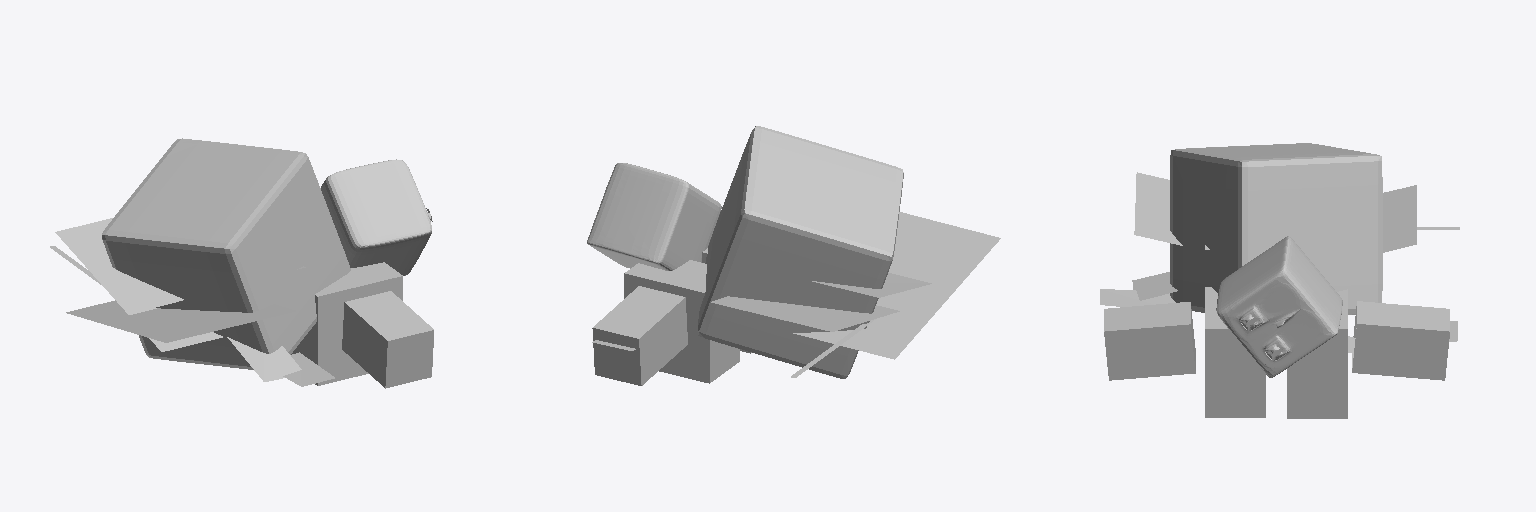
3 views of the same model, side by side, from view 1: azimuth 30°, elevation 25°; view 2: azimuth 150°, elevation 25°; view 3: azimuth 270°, elevation 25° (orthographic).
Parts seen in each view (by area): view 1: Cube_Cube.001, Cube.001_Cube.002, Cube.005_Cube.007, CollisionLL_Cube.003, RectT1_Plane, RectH2_Plane.007, RectT2_Plane.001, RectLA1_Plane.003, RectLA2_Plane.002; view 2: Cube_Cube.001, Cube.001_Cube.002, RectT1_Plane, Cube.004_Cube.005, Cube.003_Cube.004, RectT2_Plane.001, RectH2_Plane.007; view 3: Cube_Cube.001, Cube.001_Cube.002, Cube.004_Cube.005, Cube.005_Cube.007, CollisionLL_Cube.003, Cube.003_Cube.004, RectT1_Plane, RectT2_Plane.001, RectLA2_Plane.002, RectLA1_Plane.003.
Part boxes in pixels (x1,y1,x2,y2): Cube_Cube.001: (102, 138, 350, 369); Cube.001_Cube.002: (321, 159, 432, 275); Cube.005_Cube.007: (342, 291, 433, 388); CollisionLL_Cube.003: (291, 262, 402, 385); RectT1_Plane: (66, 300, 295, 342); RectH2_Plane.007: (79, 244, 183, 313); RectT2_Plane.001: (55, 218, 222, 351); RectLA1_Plane.003: (227, 337, 301, 381); RectLA2_Plane.002: (283, 352, 334, 386); Cube_Cube.001: (698, 126, 903, 378); Cube.001_Cube.002: (587, 163, 721, 270); RectT1_Plane: (793, 212, 1000, 359); Cube.004_Cube.005: (592, 286, 687, 385); Cube.003_Cube.004: (624, 260, 739, 383); RectT2_Plane.001: (711, 296, 899, 331); RectH2_Plane.007: (812, 272, 931, 297); Cube_Cube.001: (1170, 143, 1382, 314); Cube.001_Cube.002: (1216, 236, 1342, 377); Cube.004_Cube.005: (1352, 301, 1449, 380); Cube.005_Cube.007: (1104, 302, 1195, 380); CollisionLL_Cube.003: (1205, 287, 1265, 417); Cube.003_Cube.004: (1287, 289, 1347, 418); RectT1_Plane: (1134, 172, 1182, 245); RectT2_Plane.001: (1383, 185, 1416, 252); RectLA2_Plane.002: (1100, 289, 1175, 306); RectLA1_Plane.003: (1132, 272, 1177, 300).
Size of the model in its own units: 3.38 by 2.17 by 3.26.